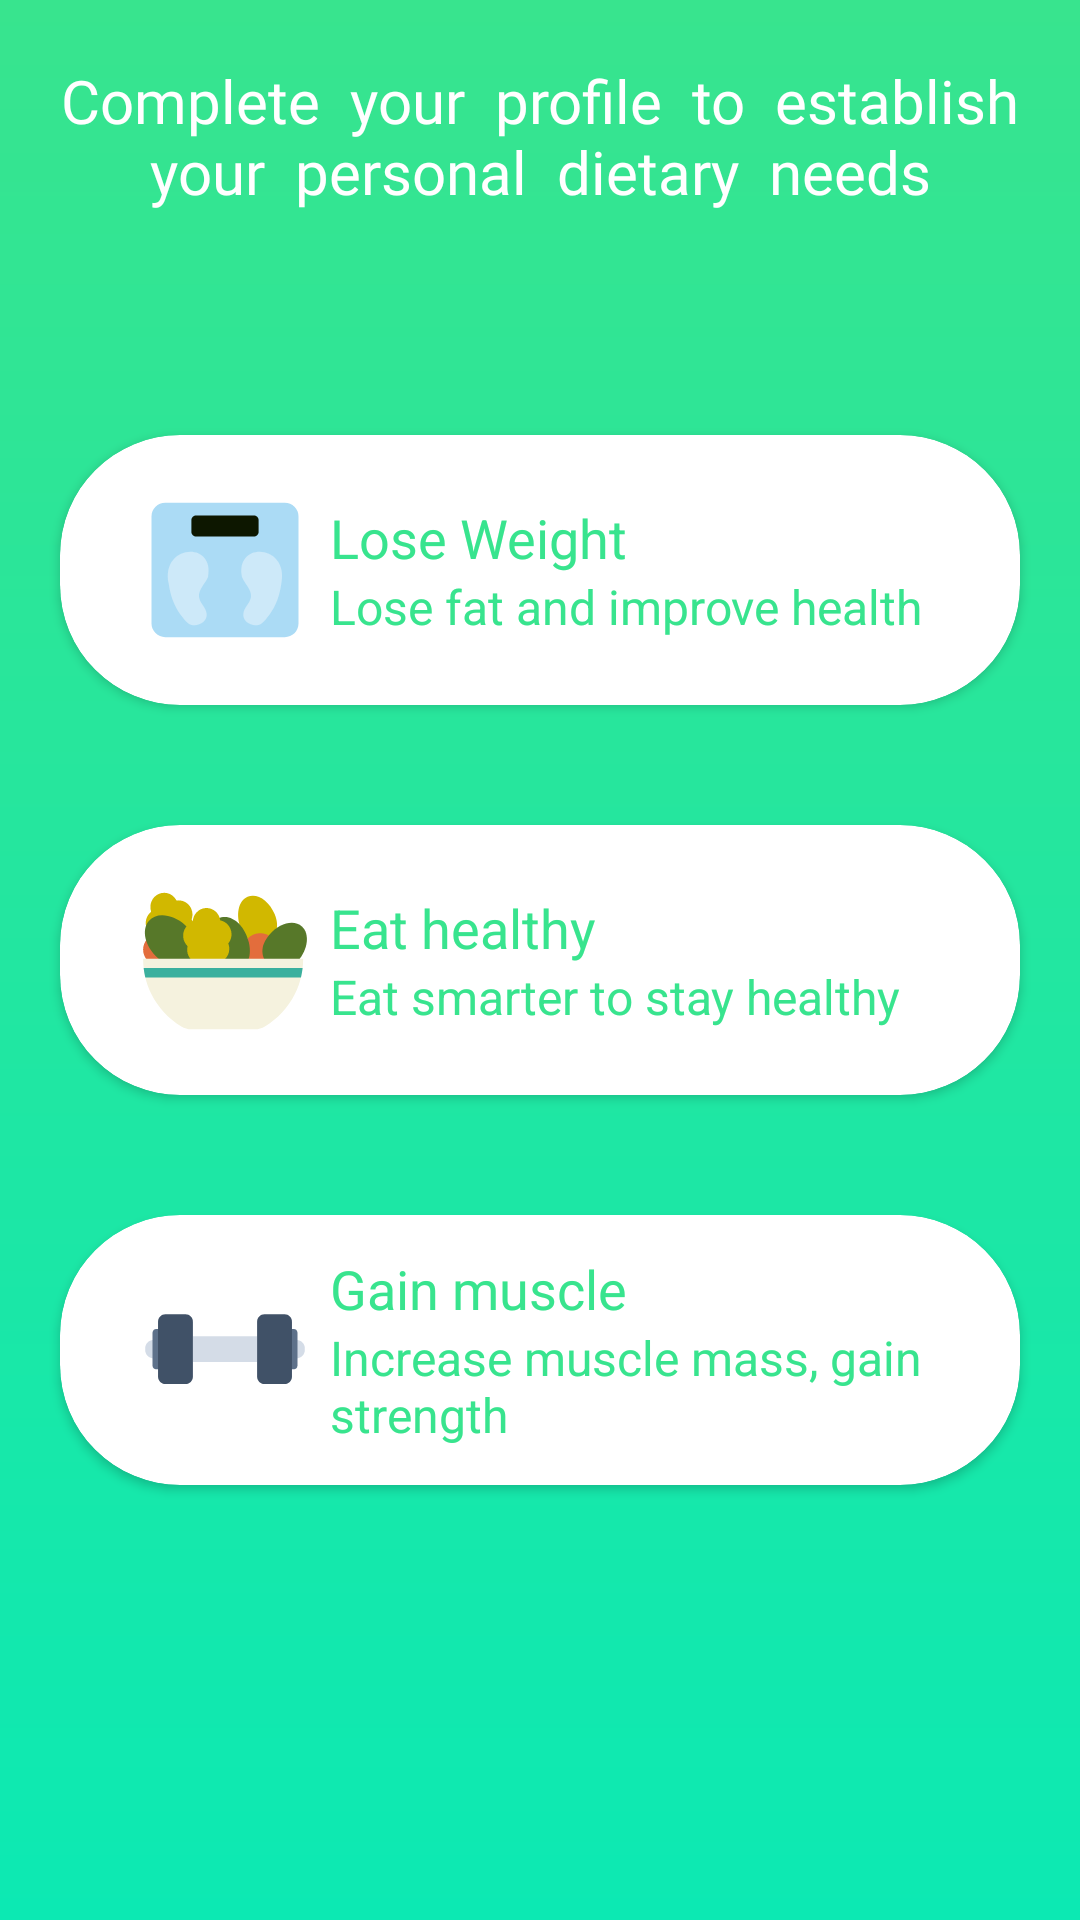

Named icons in this screenshot (1080 × 1920) and their bounding boxes, (x1, y1, x2, y2):
dumbbell: (145, 1314, 305, 1384)
salad: (143, 892, 307, 1029)
weight scale: (151, 503, 299, 637)
